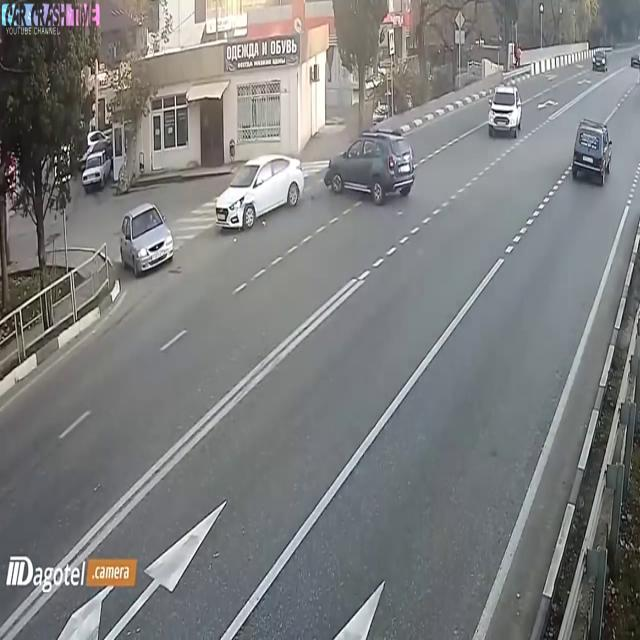Accident: (196, 100, 434, 228)
